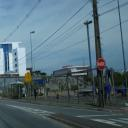Pare: (96, 56, 106, 72)
